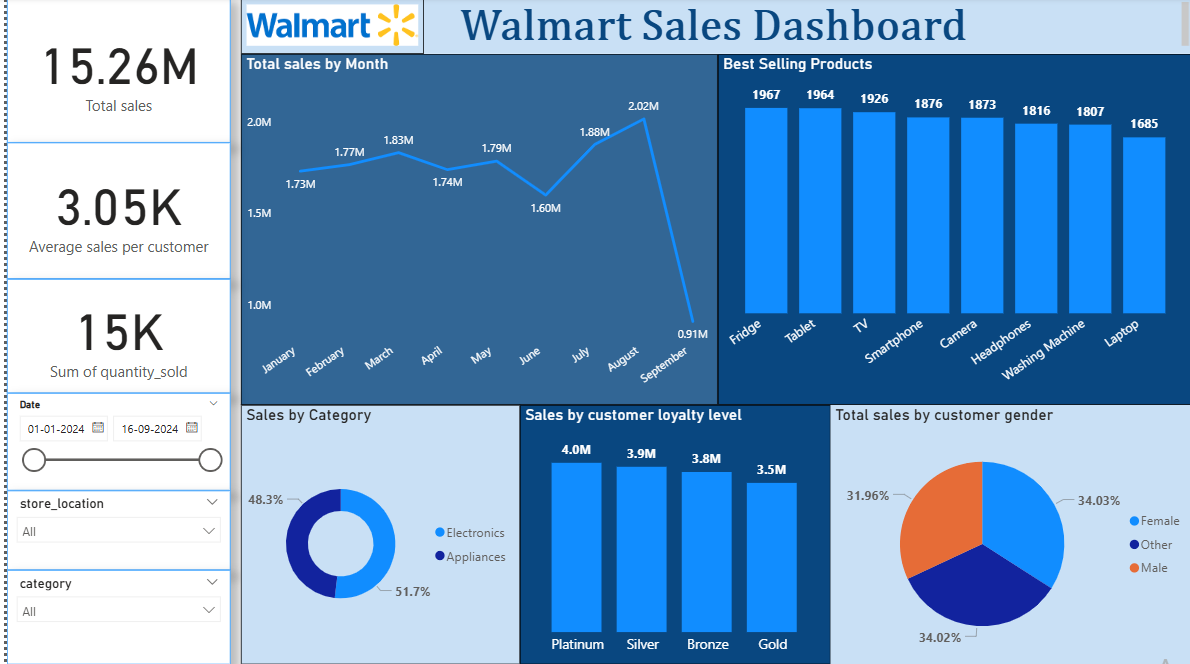

The dashboard page shown, as its layout file describes it:
{"tool":"powerbi","page":{"name":"Walmart DB","canvas":[1280,720],"ordinal":0},"visuals":[{"type":"card","fields":{"Values":["Walmart.Total sales"]},"box":[0,0,241.3,157.1],"z":0},{"type":"card","fields":{"Values":["Walmart.Average sales per customer"]},"box":[0,157.1,241.3,147.3],"z":1},{"type":"card","fields":{"Values":["Sum(Walmart.quantity_sold)"]},"box":[0,304.4,241.3,123.1],"z":2},{"type":"textbox","box":[252.6,0,1028.2,61.5],"z":3},{"type":"image","box":[252.6,0,197.5,61.5],"z":4},{"type":"slicer","fields":{"Values":["Walmart.Date"]},"box":[0,427.5,241.3,105.2],"z":5},{"type":"slicer","fields":{"Values":["Walmart.store_location"]},"box":[0,532.7,241.3,85.8],"z":6},{"type":"slicer","fields":{"Values":["Walmart.category"]},"box":[0,618.5,241.3,102],"z":7},{"type":"lineChart","fields":{"Y":["Walmart.Total sales"],"Category":["Walmart.Date.Variation.Date Hierarchy.Month"]},"box":[252.6,61.5,514.9,378.9],"z":8},{"type":"clusteredColumnChart","title":"Best Selling Products","fields":{"Y":["Sum(Walmart.quantity_sold)"],"Category":["Walmart.product_name"]},"box":[767.5,61.5,513.3,378.9],"z":9},{"type":"donutChart","title":"Sales by Category","fields":{"Y":["CountNonNull(Walmart.category)"],"Category":["Walmart.category"]},"box":[252.6,440.4,301.2,280.1],"z":10},{"type":"clusteredColumnChart","title":"Sales by customer loyalty level","fields":{"Y":["Walmart.Total sales"],"Category":["Walmart.customer_loyalty_level"]},"box":[553.8,440.4,335.2,280.1],"z":11},{"type":"pieChart","title":"Total sales by customer gender","fields":{"Category":["Walmart.customer_gender"],"Y":["Walmart.Total sales"]},"box":[889,440.4,391.9,280.1],"z":12}]}

Visuals, with their boxes in screenshot pixels (x1, y1, x2, y2), scaled from the page's 1280x720 canvas onto the 1190x664 screenshot:
card - Walmart.Total sales: BBox(0, 0, 224, 145)
card - Walmart.Average sales per customer: BBox(0, 145, 224, 281)
card - Sum(Walmart.quantity_sold): BBox(0, 281, 224, 394)
textbox: BBox(235, 0, 1189, 57)
image: BBox(235, 0, 418, 57)
slicer - Walmart.Date: BBox(0, 394, 224, 491)
slicer - Walmart.store_location: BBox(0, 491, 224, 570)
slicer - Walmart.category: BBox(0, 570, 224, 663)
lineChart - Walmart.Total sales x Walmart.Date.Variation.Date Hierarchy.Month: BBox(235, 57, 714, 406)
"Best Selling Products" clusteredColumnChart: BBox(714, 57, 1189, 406)
"Sales by Category" donutChart: BBox(235, 406, 515, 663)
"Sales by customer loyalty level" clusteredColumnChart: BBox(515, 406, 826, 663)
"Total sales by customer gender" pieChart: BBox(826, 406, 1189, 663)
